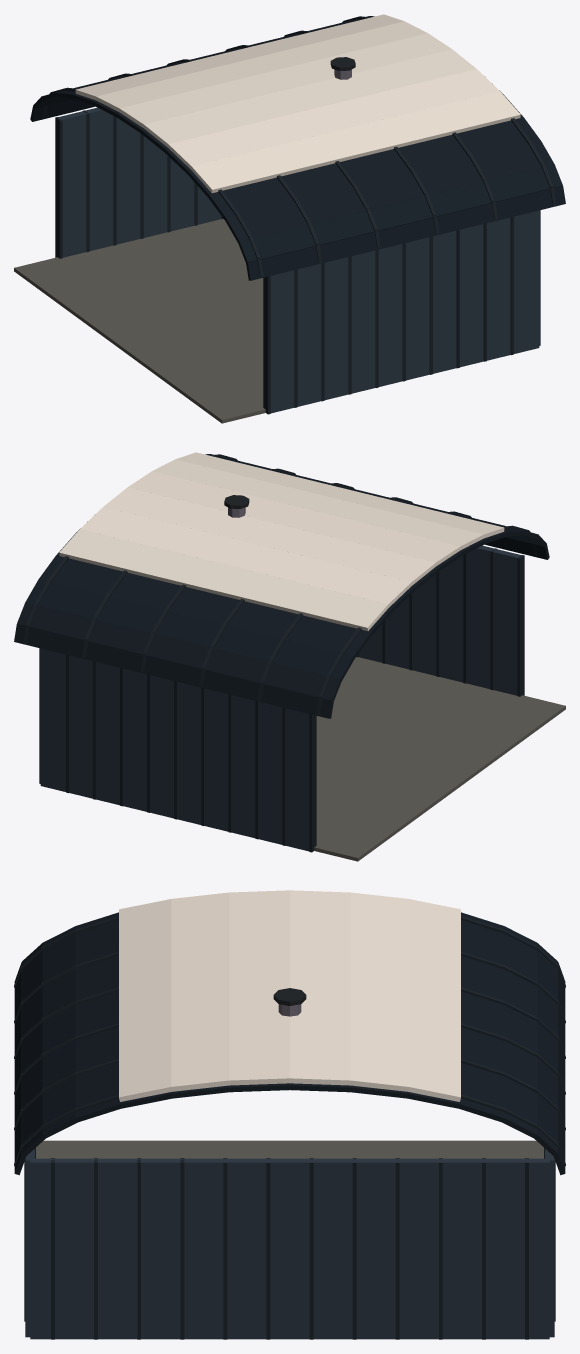
The model's file is rs_hangar.glb.
3 views of the same model, one above another, from view 1: azimuth 30°, elevation 25°; view 2: azimuth 150°, elevation 25°; view 3: azimuth 270°, elevation 25° (orthographic). The views are drawn at different scales.
Parts seen in each view (by area): view 1: hangar; view 2: hangar; view 3: hangar.
Boxes of the visible parts, x1=… form: hangar: x1=14, y1=14, x2=565, y2=423; hangar: x1=14, y1=452, x2=565, y2=861; hangar: x1=14, y1=890, x2=565, y2=1339.
Bounding box in the file's own units: 15 × 9.77 × 17.
